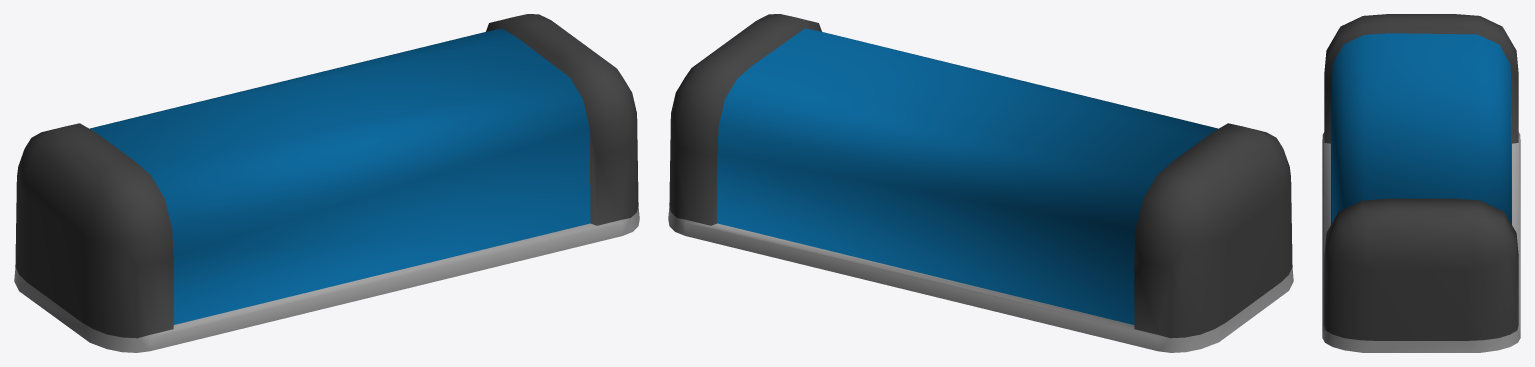
The model's file is RectNote.glb.
3 views of the same model, side by side, from view 1: azimuth 30°, elevation 25°; view 2: azimuth 150°, elevation 25°; view 3: azimuth 270°, elevation 25° (orthographic). The views are drawn at different scales.
Visible parts, largest first — view 1: RectNote; view 2: RectNote; view 3: RectNote.
Boxes of the visible parts, x1=… form: RectNote: x1=14, y1=14, x2=639, y2=352; RectNote: x1=668, y1=14, x2=1293, y2=352; RectNote: x1=1322, y1=14, x2=1520, y2=352.
Size of the model in its own units: 0.8893 by 0.2412 by 0.335.
